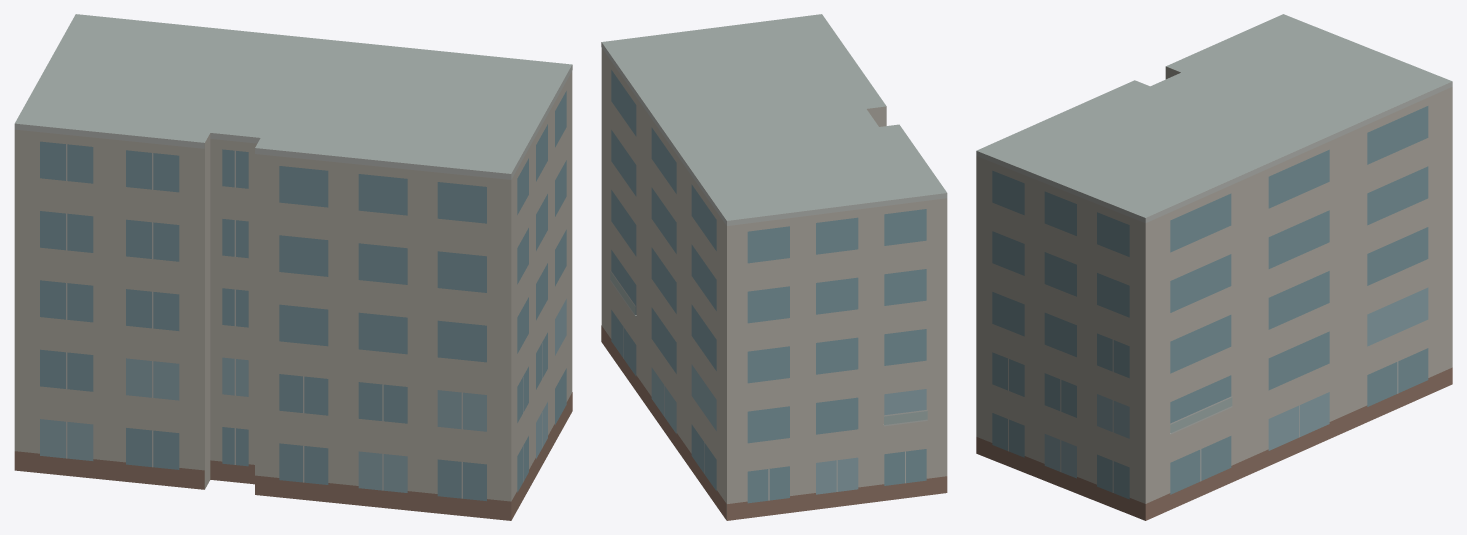
The model's file is survey-upis-33015026.glb.
3 views of the same model, side by side, from view 1: azimuth 30°, elevation 25°; view 2: azimuth 150°, elevation 25°; view 3: azimuth 270°, elevation 25° (orthographic). The views are drawn at different scales.
Parts seen in each view (by area): view 1: survey-upis-33015026.tmp; view 2: survey-upis-33015026.tmp; view 3: survey-upis-33015026.tmp.
Part boxes in pixels (x1,y1,x2,y2): survey-upis-33015026.tmp: (14, 14, 572, 520); survey-upis-33015026.tmp: (601, 14, 947, 520); survey-upis-33015026.tmp: (976, 14, 1452, 520).
Bounding box in the file's own units: 20.38 × 14.1 × 20.11.
